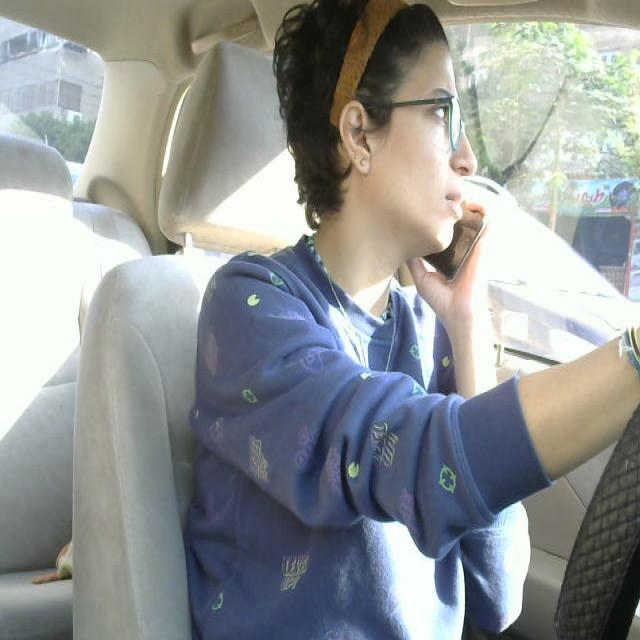mobile use: (418, 180, 492, 286)
